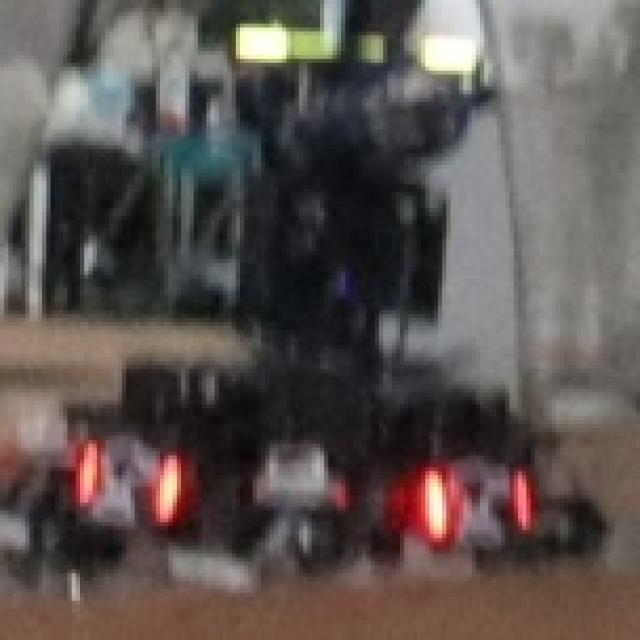Rs: (417, 448, 535, 554), (76, 428, 185, 534)
